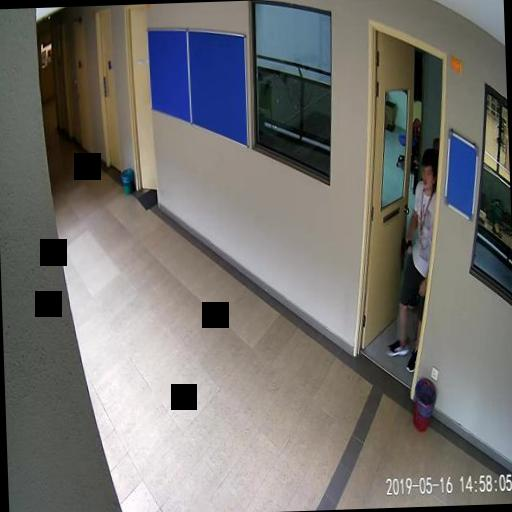Handgun: (398, 234, 410, 267)
